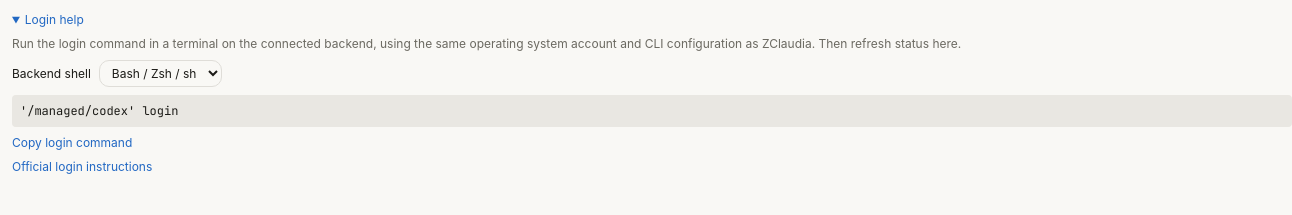
runtime login help › opens official instructions in the desktop browser and reports opener failures
Click the link "Official login instructions".
click(82, 166)  # box [12,159,152,174]
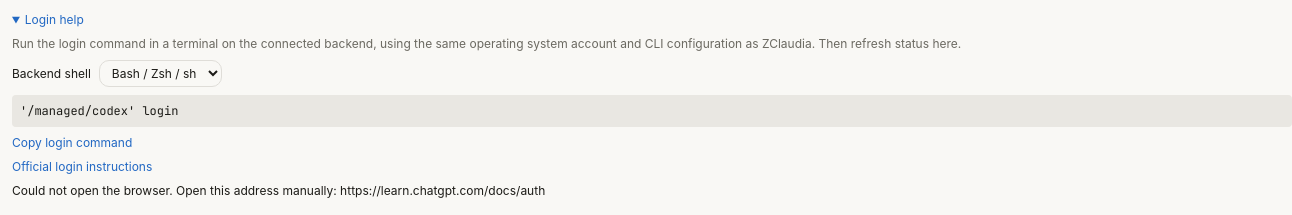
Now the message shows "https://learn.chatgpt.com/docs/auth", box [340,183,545,198]
Click the link "Official login instructions".
click(82, 166)  # box [12,159,152,174]
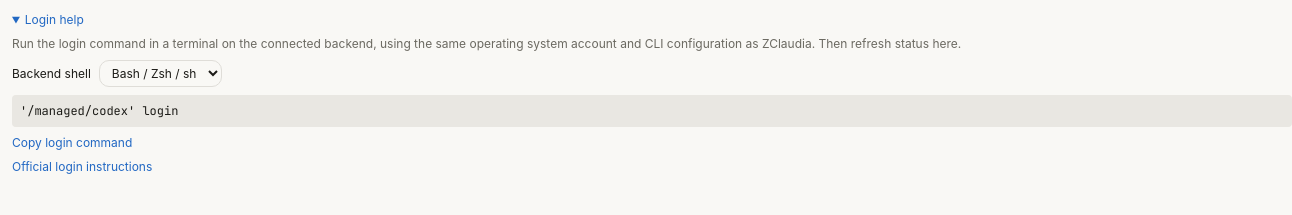
Now the message is gone
